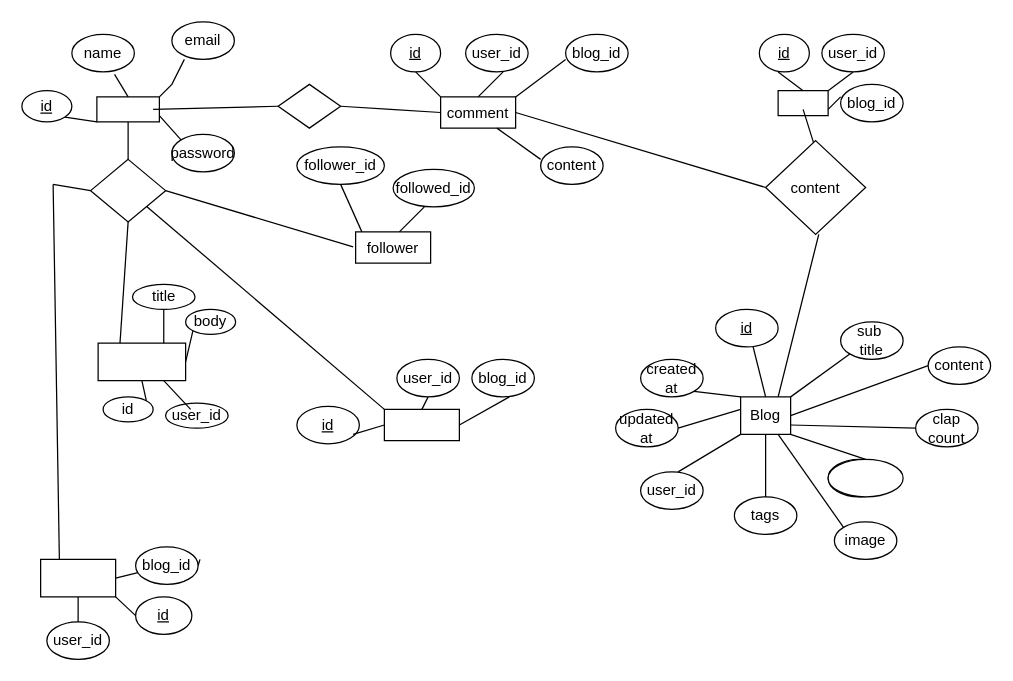
Image size: 1013x681. Some labels were removed from this diagram. The shapes that lost their labels are listed below. From the top down, each one's box as (x1, y1, x2, y2) in pixels, then its label:
(96, 96, 159, 122): user
(277, 83, 341, 128): make
(777, 89, 828, 116): clap
(89, 158, 166, 222): has
(97, 342, 186, 381): notification
(383, 408, 459, 441): history
(827, 458, 903, 497): comment count
(39, 558, 116, 597): read later
